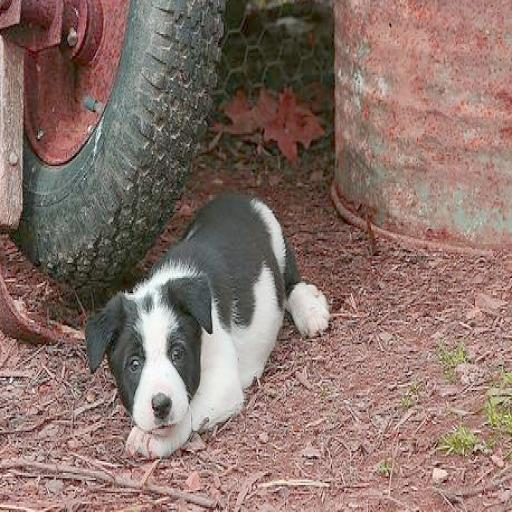dog_face: (84, 280, 211, 434)
